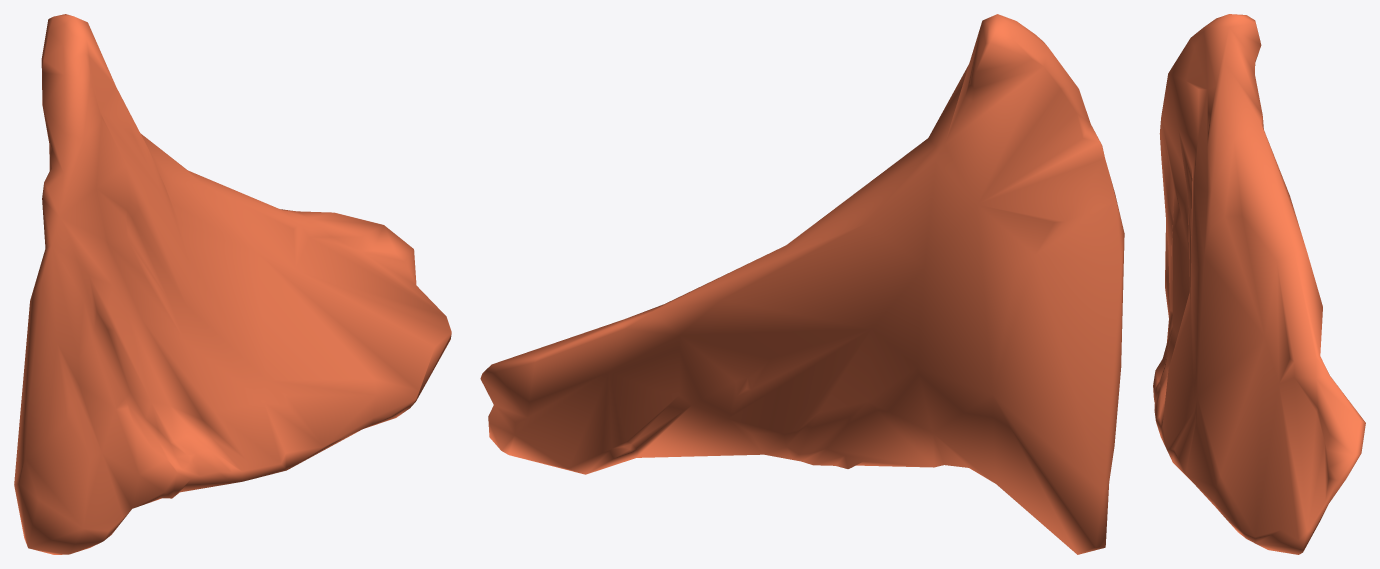
File: Depressor_septi_nasi.l_Generated_Mesh_From_X3D.985.glb
The picture shows the model from 3 angles, left to right: view 1: azimuth 30°, elevation 25°; view 2: azimuth 150°, elevation 25°; view 3: azimuth 270°, elevation 25°; orthographic projection. The views are drawn at different scales.
Parts seen in each view (by area): view 1: Depressor_septi_nasi.l_Generated_Mesh_From_X3D.985; view 2: Depressor_septi_nasi.l_Generated_Mesh_From_X3D.985; view 3: Depressor_septi_nasi.l_Generated_Mesh_From_X3D.985.
Boxes of the visible parts, x1=… form: Depressor_septi_nasi.l_Generated_Mesh_From_X3D.985: x1=14, y1=14, x2=451, y2=554; Depressor_septi_nasi.l_Generated_Mesh_From_X3D.985: x1=480, y1=14, x2=1124, y2=554; Depressor_septi_nasi.l_Generated_Mesh_From_X3D.985: x1=1153, y1=14, x2=1365, y2=554.
Bounding box in the file's own units: 0.0166 × 0.0161 × 0.0076.
